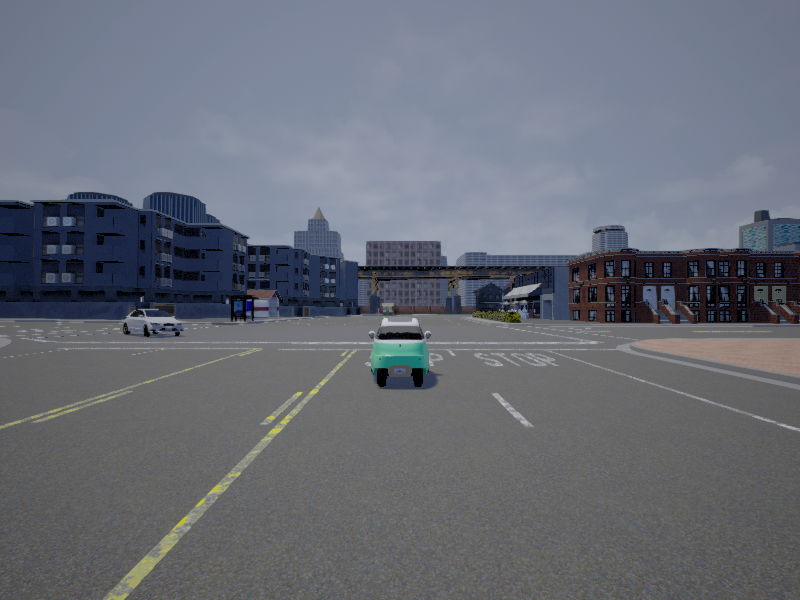Benign: (369, 316, 432, 387), (124, 311, 181, 339)
